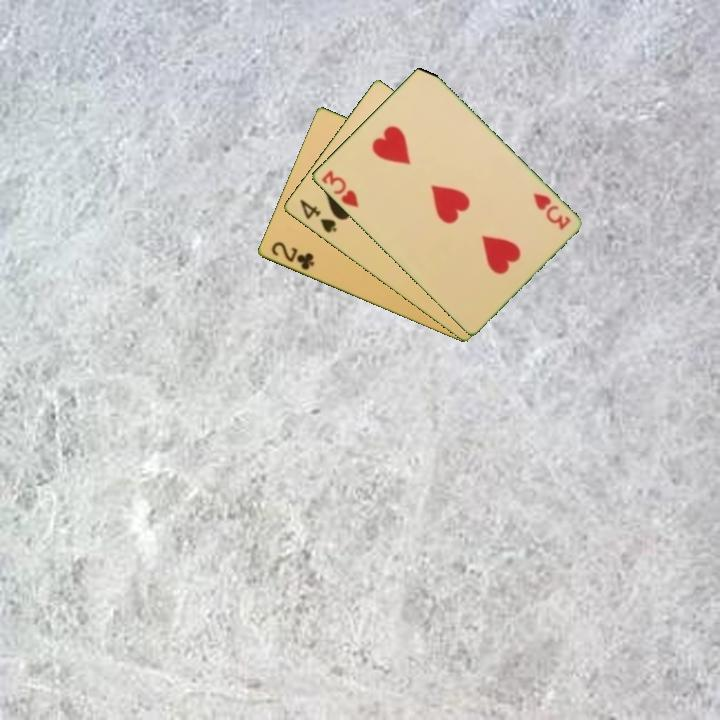2c: (267, 238, 317, 273)
3h: (529, 189, 573, 233), (318, 166, 361, 210)
4s: (295, 195, 339, 236)
